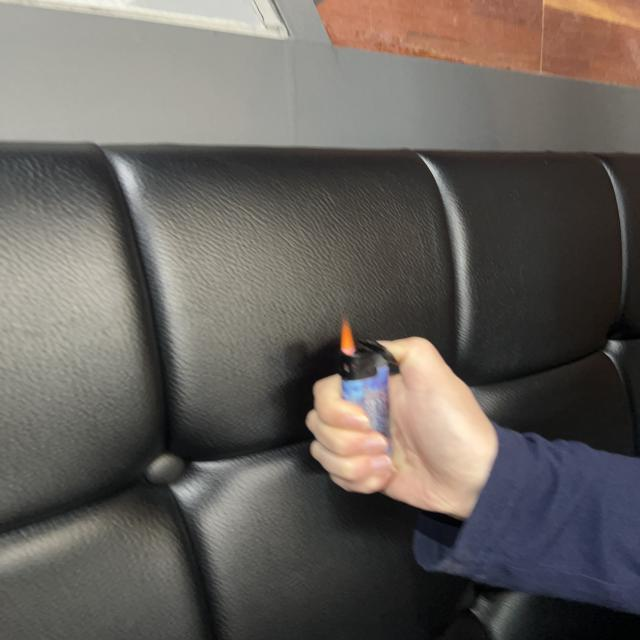fire: (342, 316, 358, 356)
